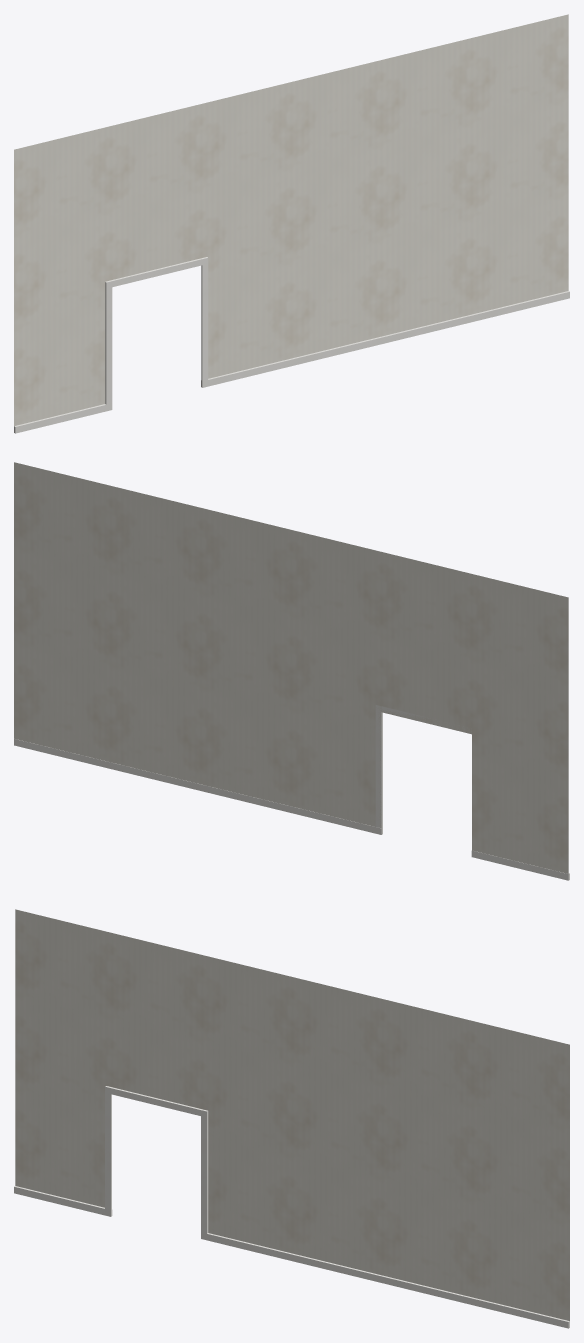
3 views of the same model, one above another, from view 1: azimuth 30°, elevation 25°; view 2: azimuth 150°, elevation 25°; view 3: azimuth 330°, elevation 25° (orthographic).
Visible parts, largest first — view 1: jx_wm_12_0d5648c0; view 2: jx_wm_12_0d5648c0; view 3: jx_wm_12_0d5648c0.
Boxes of the visible parts, x1,y1,x2,y2 form: jx_wm_12_0d5648c0: (14, 14, 569, 433); jx_wm_12_0d5648c0: (14, 462, 569, 880); jx_wm_12_0d5648c0: (14, 909, 569, 1328).
Bounding box in the file's own units: 12.3 × 6 × 0.05.
Materials: 2 (2 with a texture image).
